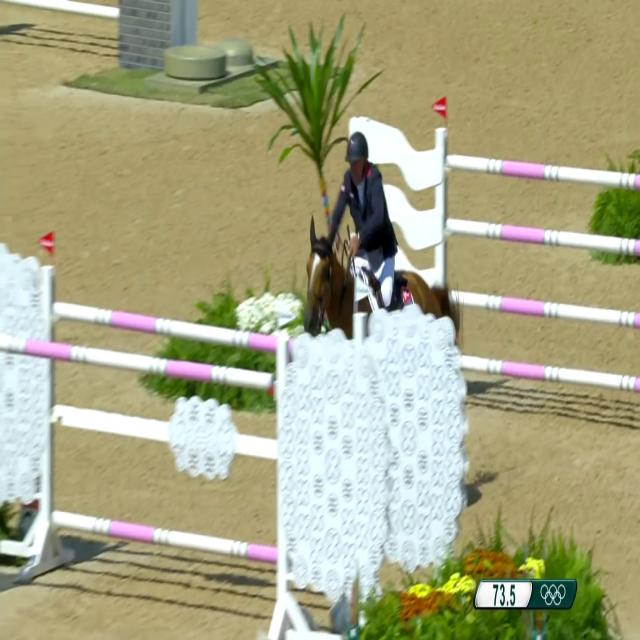Horse Running: (284, 117, 478, 467)
